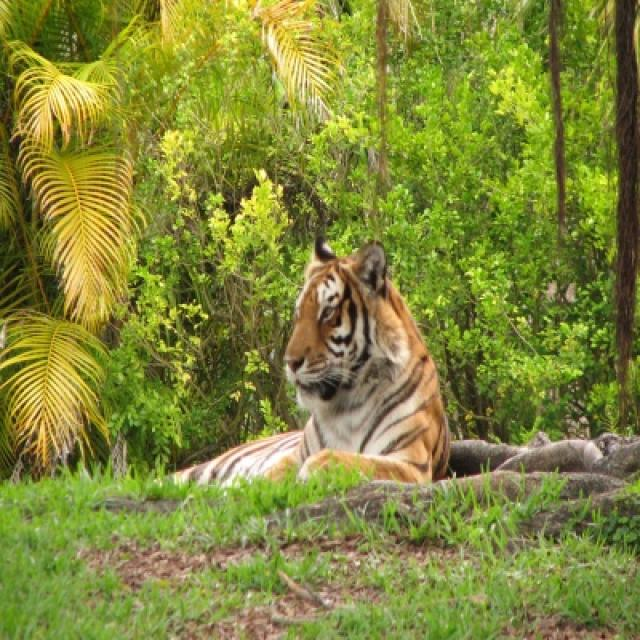Tiger: (221, 241, 457, 477)
